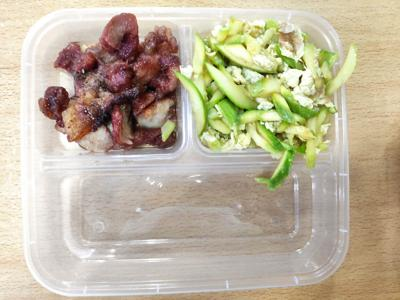jdhg: (194, 23, 325, 150)
r1: (53, 32, 172, 148)
